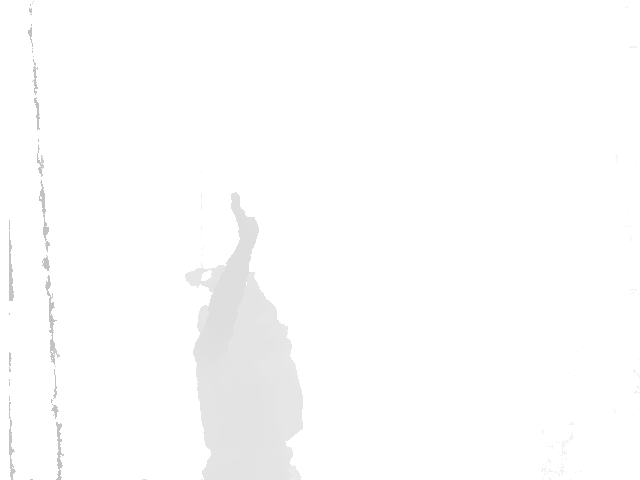hand: (229, 189, 261, 242)
head: (184, 263, 282, 333)
person: (183, 189, 304, 480)
